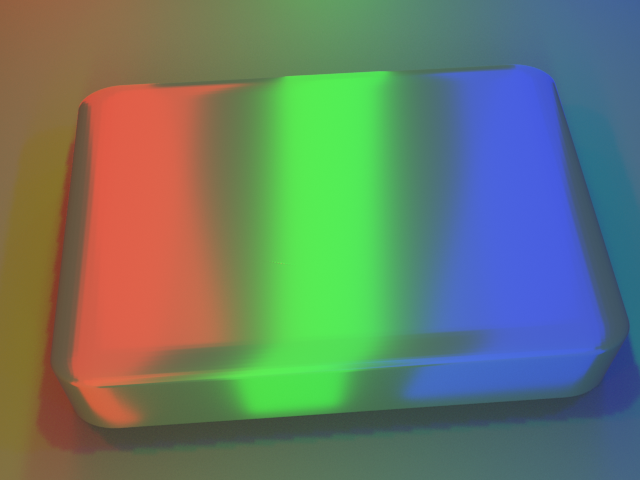scratch: (225, 237, 328, 297)
